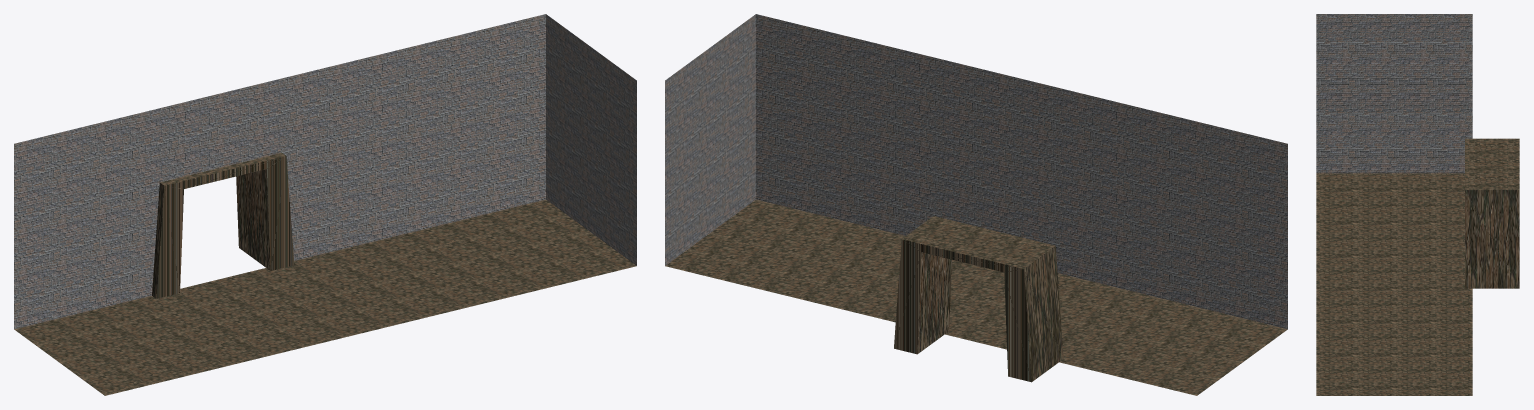
The model's file is room.gltf.
3 renders of one model, left to right at view 1: azimuth 30°, elevation 25°; view 2: azimuth 150°, elevation 25°; view 3: azimuth 270°, elevation 25°, orthographic. The views are drawn at different scales.
Parts seen in each view (by area): view 1: parent, r1r2_impl; view 2: parent, r1r2_impl; view 3: parent, r1r2_impl.
Boxes of the visible parts, bbox=[...] form: parent: bbox=[14, 14, 636, 395]; r1r2_impl: bbox=[152, 152, 294, 298]; parent: bbox=[665, 14, 1287, 395]; r1r2_impl: bbox=[894, 216, 1063, 382]; parent: bbox=[1316, 14, 1472, 395]; r1r2_impl: bbox=[1465, 138, 1519, 288].
Size of the model in its own units: 13.5 by 4.5 by 5.2.
